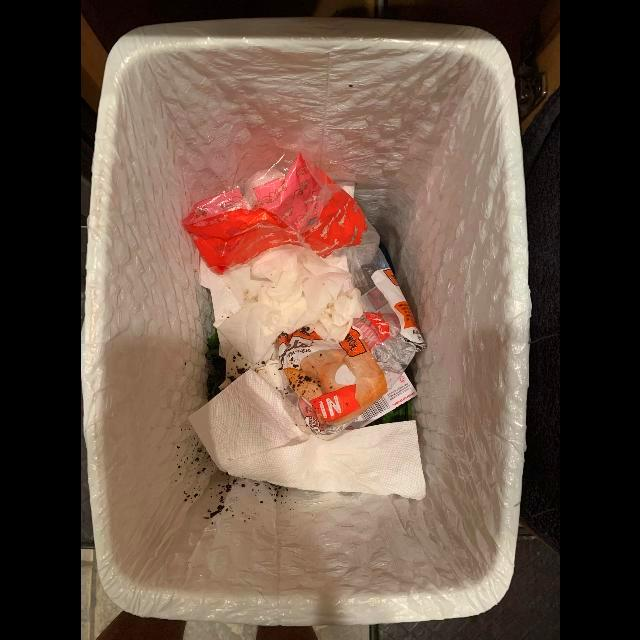paper: (188, 366, 426, 501), (199, 250, 363, 374)
plastic_bag: (182, 140, 390, 297), (274, 270, 426, 439)
